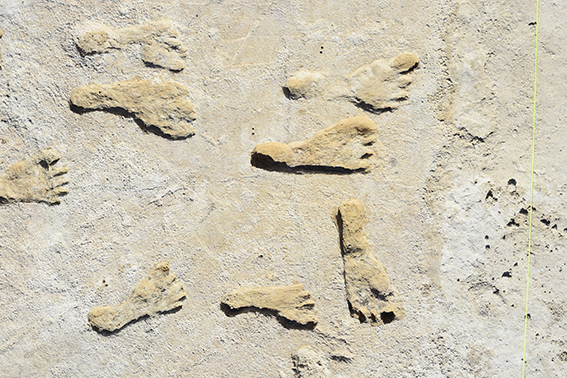human_foot_print: (278, 35, 420, 116), (74, 246, 190, 340), (336, 192, 407, 328), (62, 82, 209, 143), (65, 14, 208, 73), (246, 130, 382, 182), (219, 277, 321, 334)
